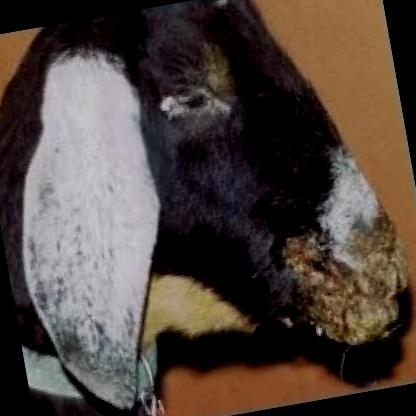ppr: (297, 225, 411, 354)
